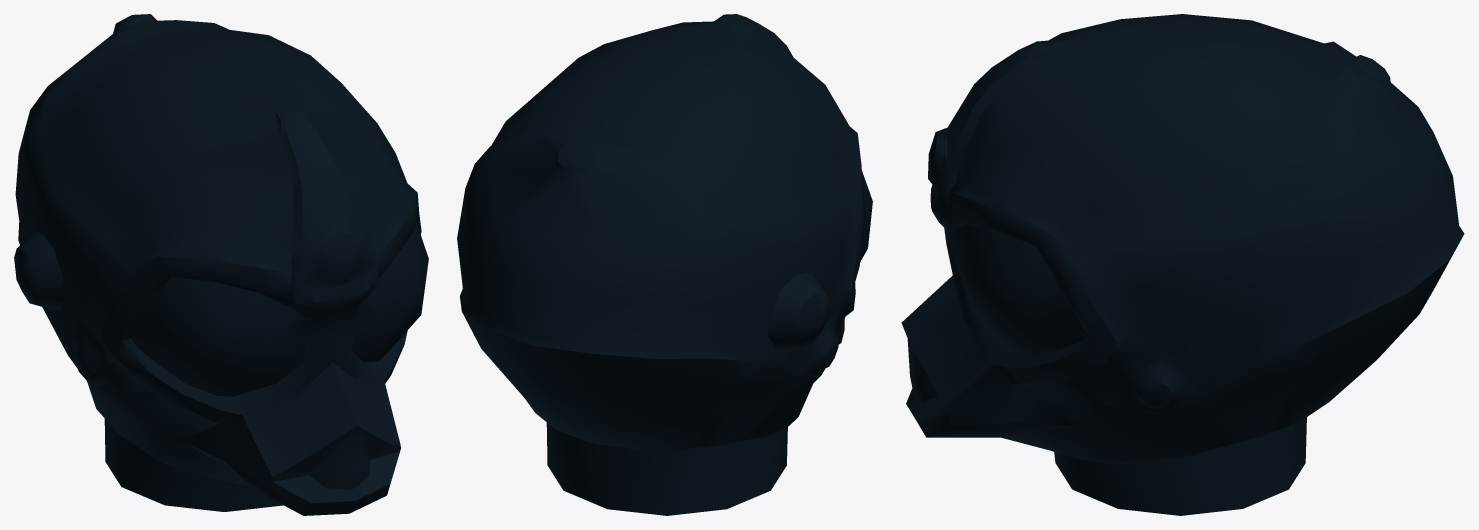
The picture shows the model from 3 angles, left to right: view 1: azimuth 30°, elevation 25°; view 2: azimuth 150°, elevation 25°; view 3: azimuth 270°, elevation 25°; orthographic projection. The views are drawn at different scales.
Bounding box in the file's own units: 26.4 × 36.34 × 30.63.
